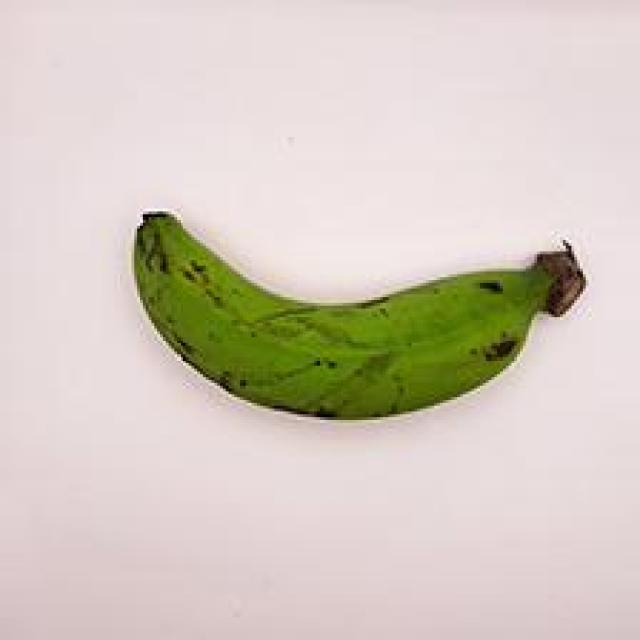Raw: (110, 194, 594, 444)
